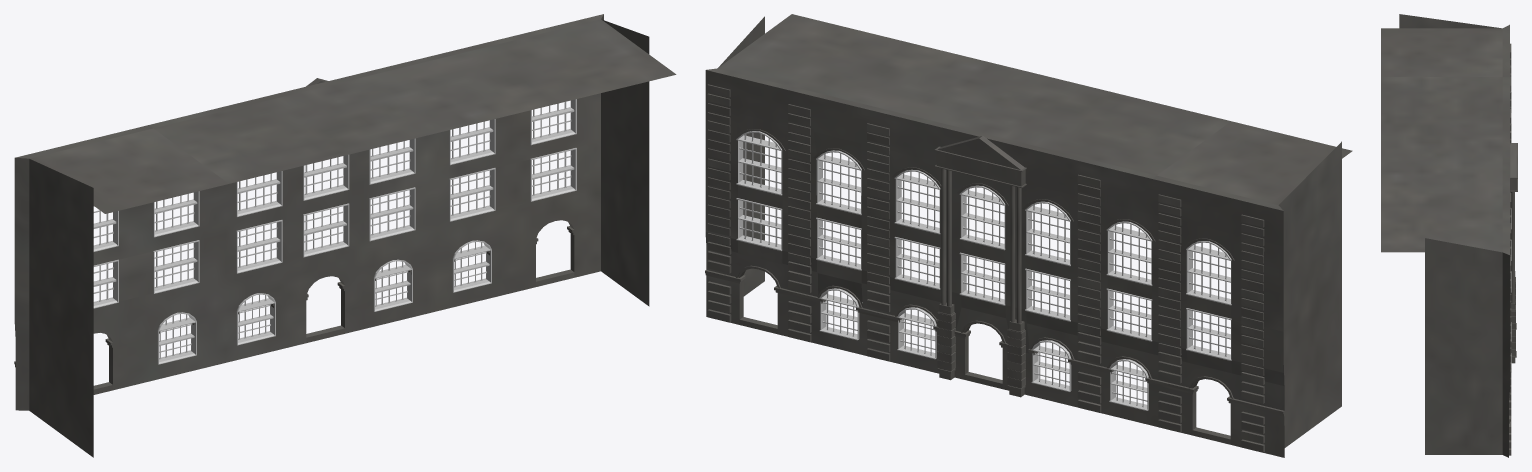
The model's file is 26_04_2020_ventanas 1.fbx.
3 renders of one model, left to right at view 1: azimuth 30°, elevation 25°; view 2: azimuth 150°, elevation 25°; view 3: azimuth 270°, elevation 25°, orthographic. The views are drawn at different scales.
Parts seen in each view (by area): view 1: Cube.030, Cube.001; view 2: Cube.030, Cube.001; view 3: Cube.030.
Boxes of the visible parts, x1=… form: Cube.030: x1=14, y1=14, x2=676, y2=457; Cube.001: x1=93, y1=99, x2=576, y2=364; Cube.030: x1=705, y1=14, x2=1352, y2=457; Cube.001: x1=736, y1=131, x2=1231, y2=410; Cube.030: x1=1381, y1=14, x2=1517, y2=457.
Bounding box in the file's own units: 8761 × 3837 × 2196.
